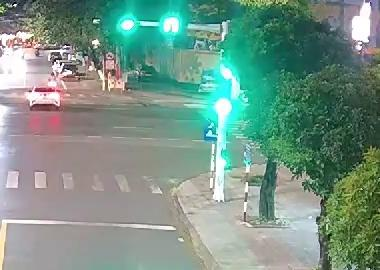green_light: (213, 63, 239, 117), (154, 15, 180, 37), (116, 15, 138, 35)
stop_line: (2, 215, 179, 232)
